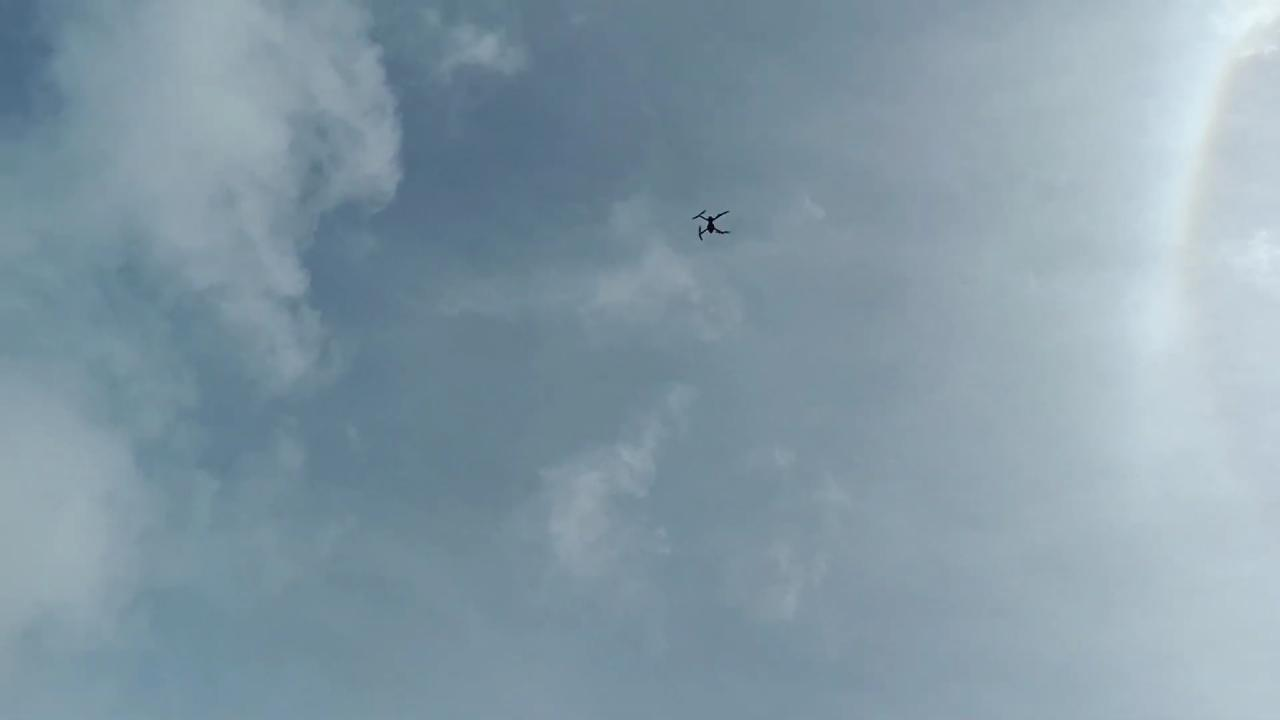Drone: (686, 200, 740, 249)
